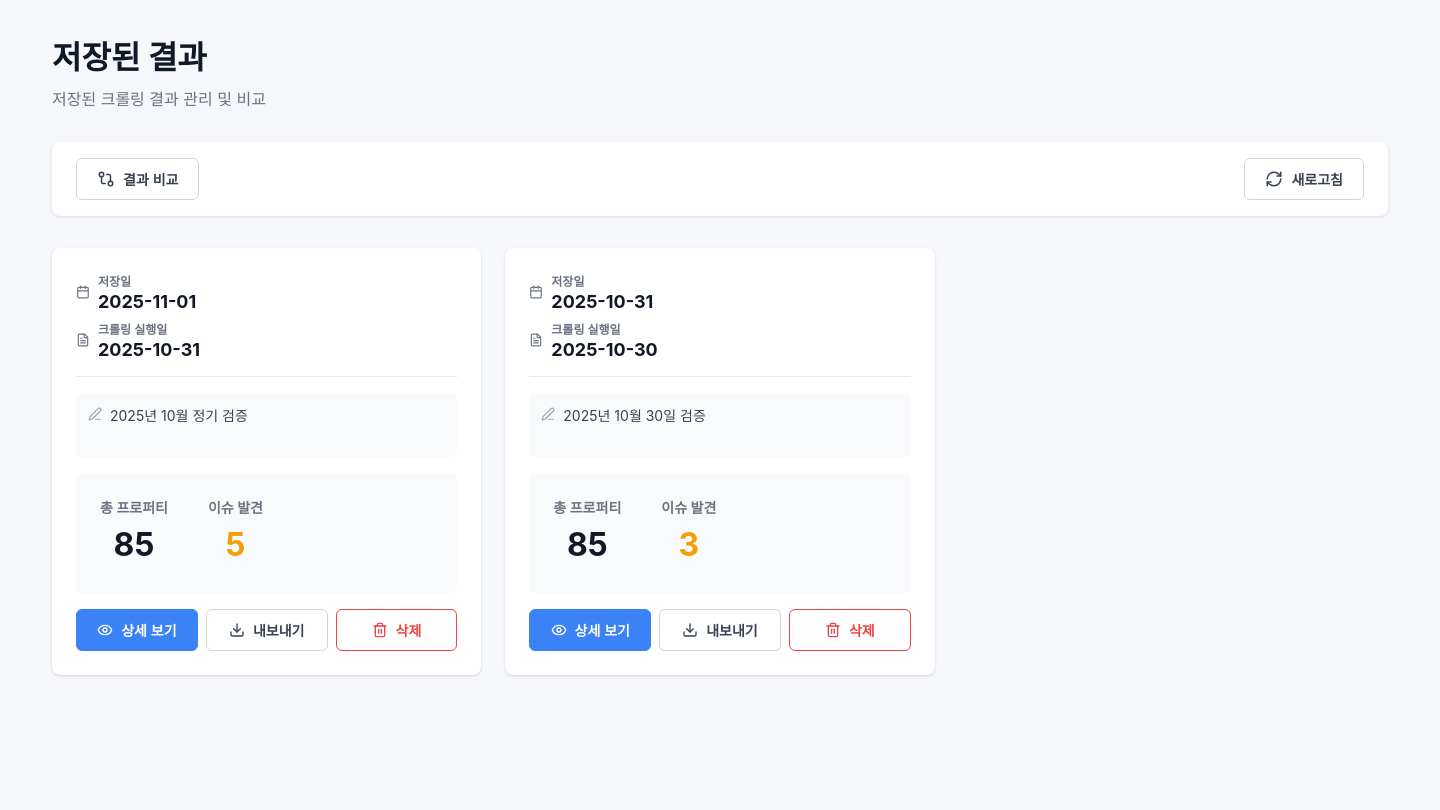
Test: SavedResults Page › Compare Mode › should enable compare mode and allow selecting 2 results
Check: the text "2025년 10월 정기 검증" is shown, box [110,407,248,424]
Click the button "결과 비교" at [138, 179], box [76,158,199,200]
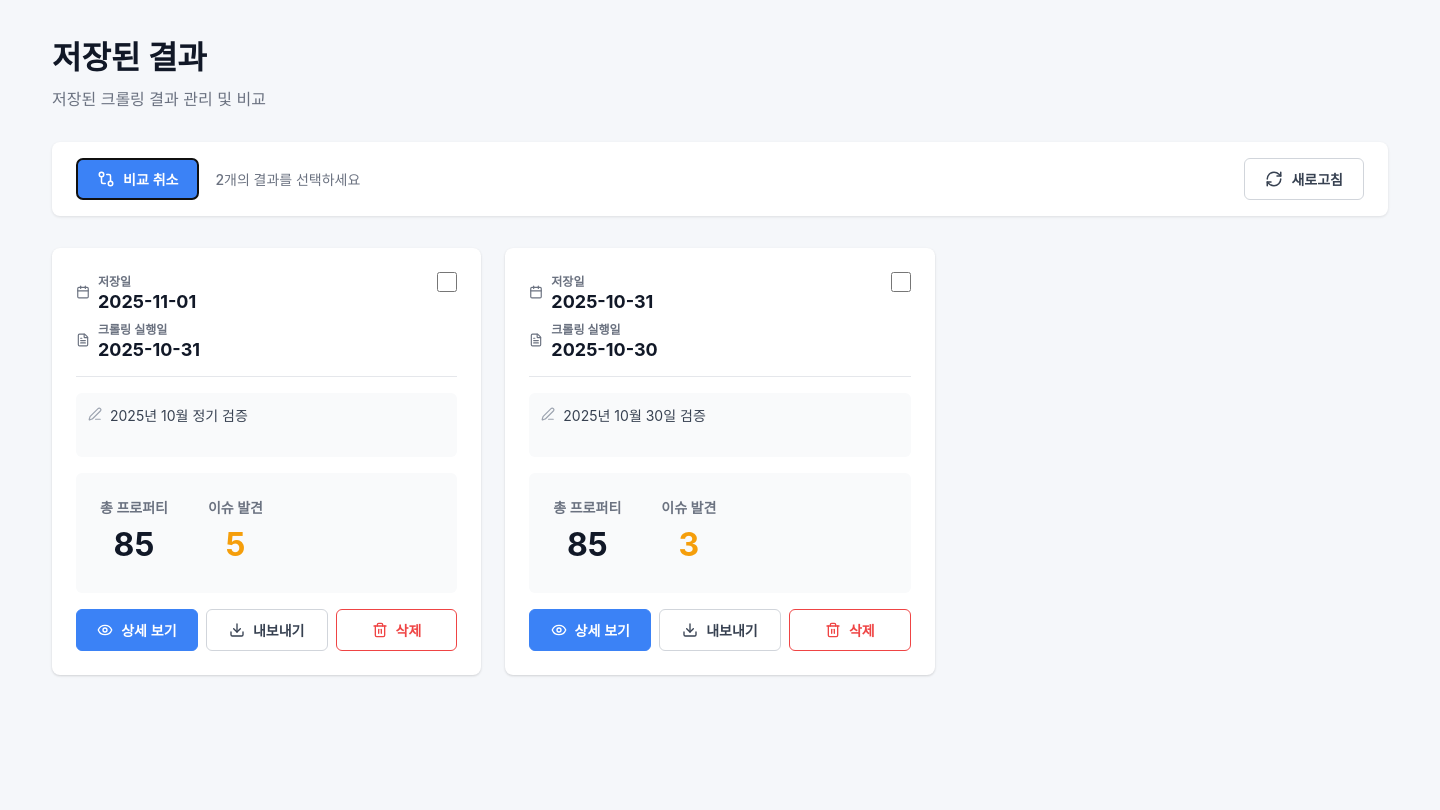
Check: the text "2개의 결과를 선택하세요" is shown, box [215,169,360,189]
Click the 1st checkbox named "비교 선택" at [447, 282], box [437,272,457,292]
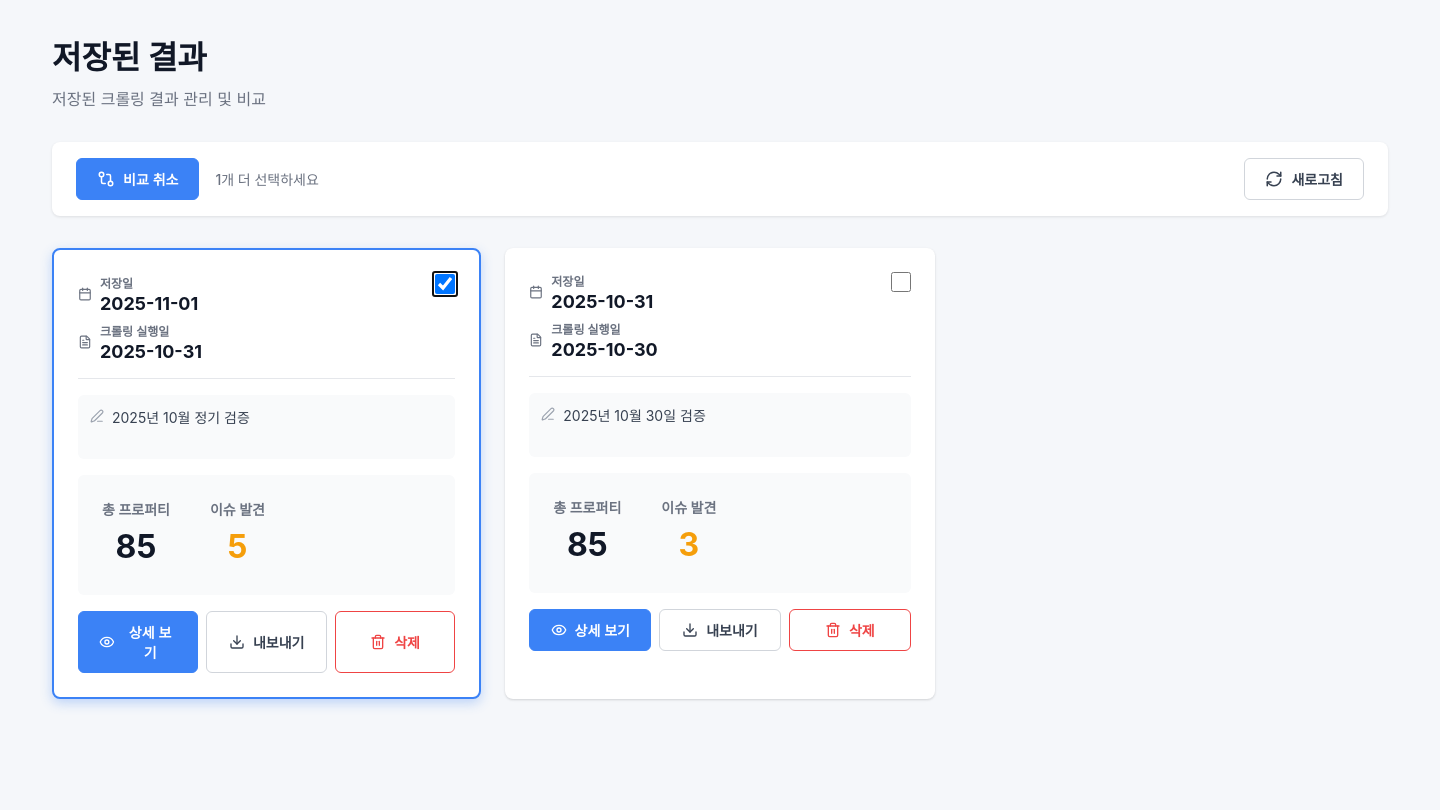
Check: the text "1개 더 선택하세요" is shown, box [215,169,319,189]
Click the 2nd checkbox named "비교 선택" at [901, 282], box [891,272,911,292]
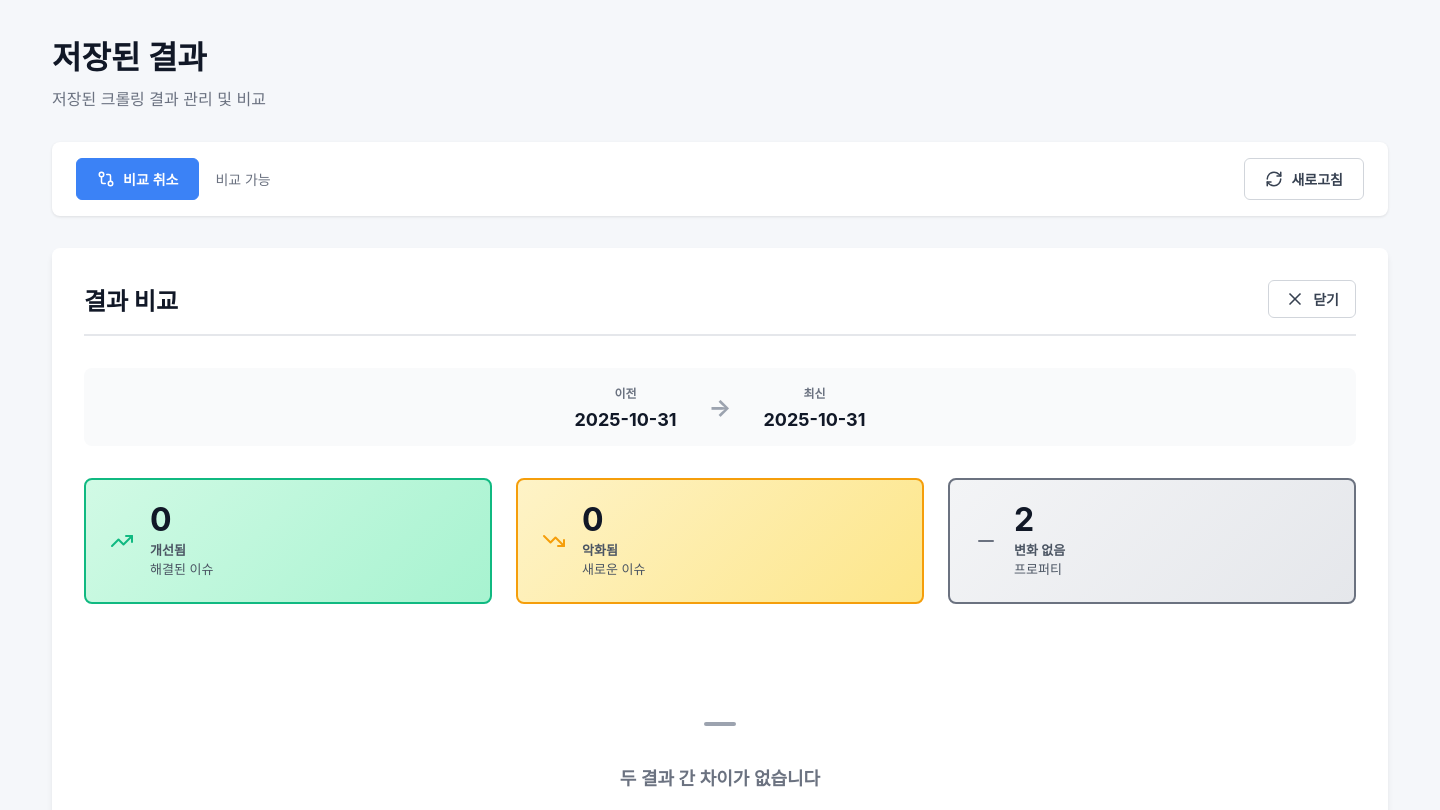
Check: the text "비교 가능" is shown, box [215,169,271,189]
